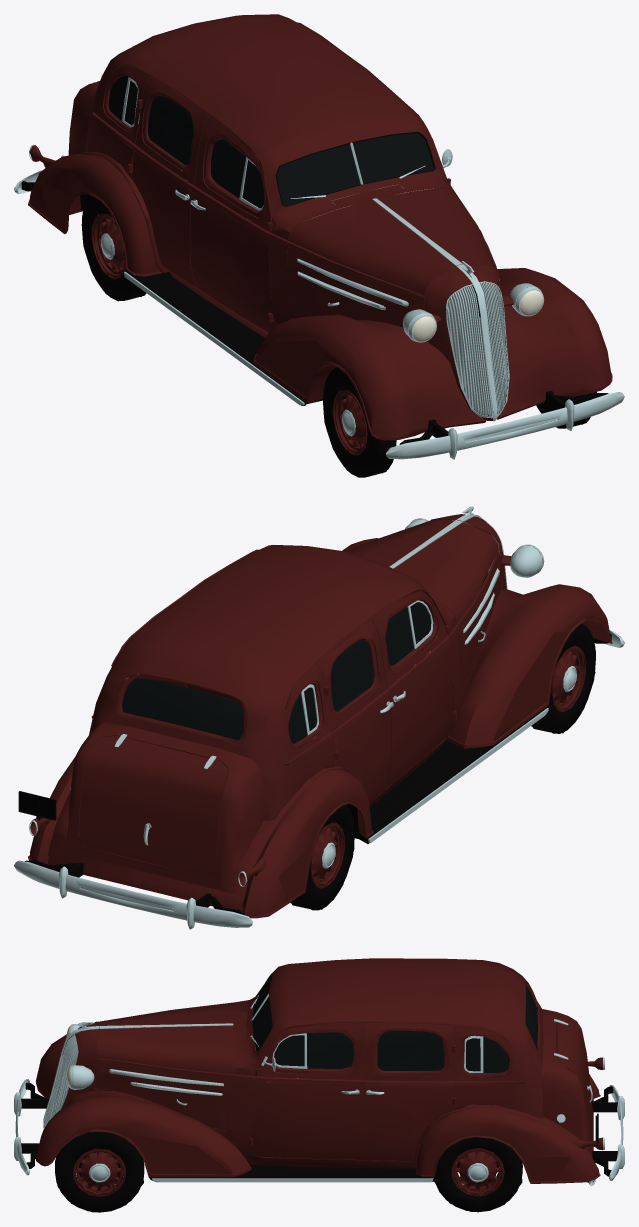
The picture shows the model from 3 angles, top to bottom: view 1: azimuth 30°, elevation 25°; view 2: azimuth 150°, elevation 25°; view 3: azimuth 270°, elevation 25°; orthographic projection. The views are drawn at different scales.
Parts seen in each view (by area): view 1: limarija, metal, prozori, shasija, tockovi-spred, svetla, tockovi; view 2: limarija, metal, prozori, shasija, tockovi-spred; view 3: limarija, metal, prozori, tockovi-spred, shasija.
Part boxes in pixels (x1,y1,x2,y2): limarija: [28, 14, 612, 455]; metal: [14, 77, 624, 459]; prozori: [108, 75, 433, 208]; shasija: [21, 131, 608, 444]; tockovi-spred: [81, 142, 590, 477]; svetla: [412, 290, 543, 341]; tockovi: [82, 168, 596, 476]; limarija: [28, 514, 612, 918]; metal: [14, 506, 624, 929]; prozori: [122, 602, 431, 743]; shasija: [18, 572, 611, 915]; tockovi-spred: [301, 623, 595, 910]; limarija: [35, 958, 602, 1196]; metal: [14, 993, 624, 1182]; prozori: [253, 976, 537, 1072]; tockovi-spred: [55, 1106, 542, 1212]; shasija: [21, 974, 617, 1182].
Size of the model in its own units: 1820 by 1739 by 4996.
